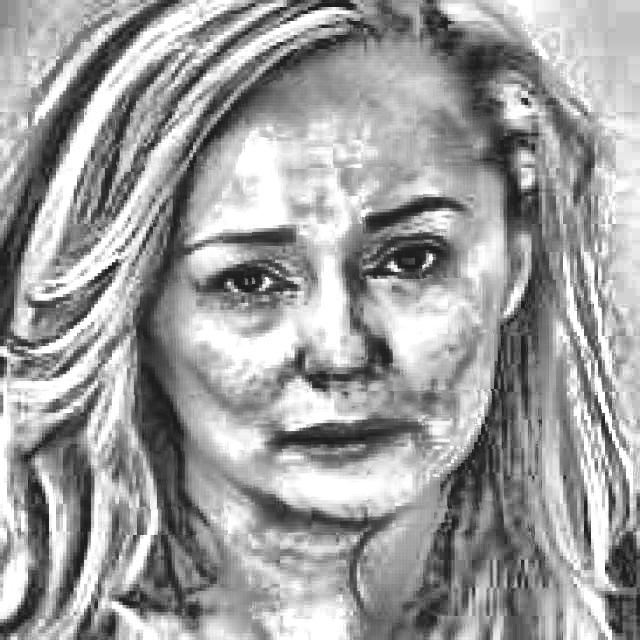sad: (117, 80, 502, 534)
